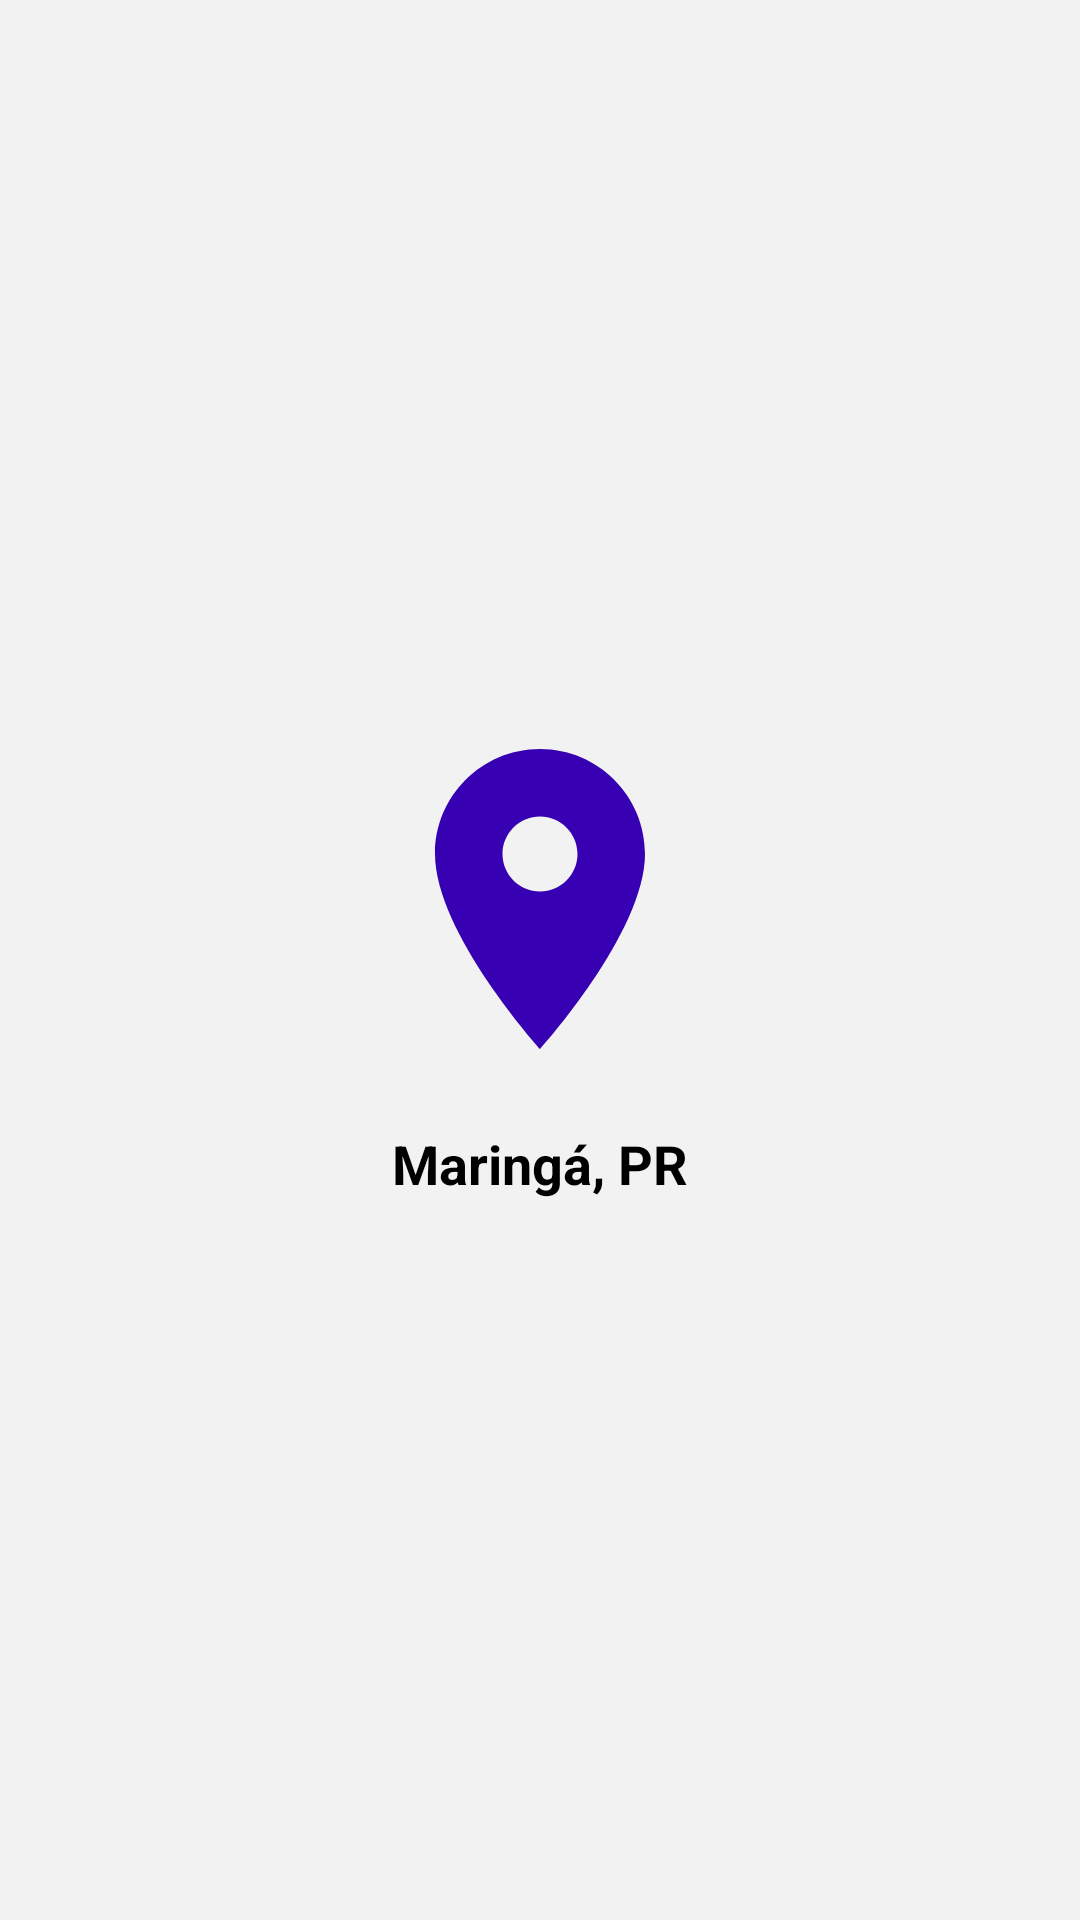

Icon bounding boxes for this 1080px×1920px phone screenshot, format [x1,y1,x2,y2]:
map pin: [434,749,645,1049]
